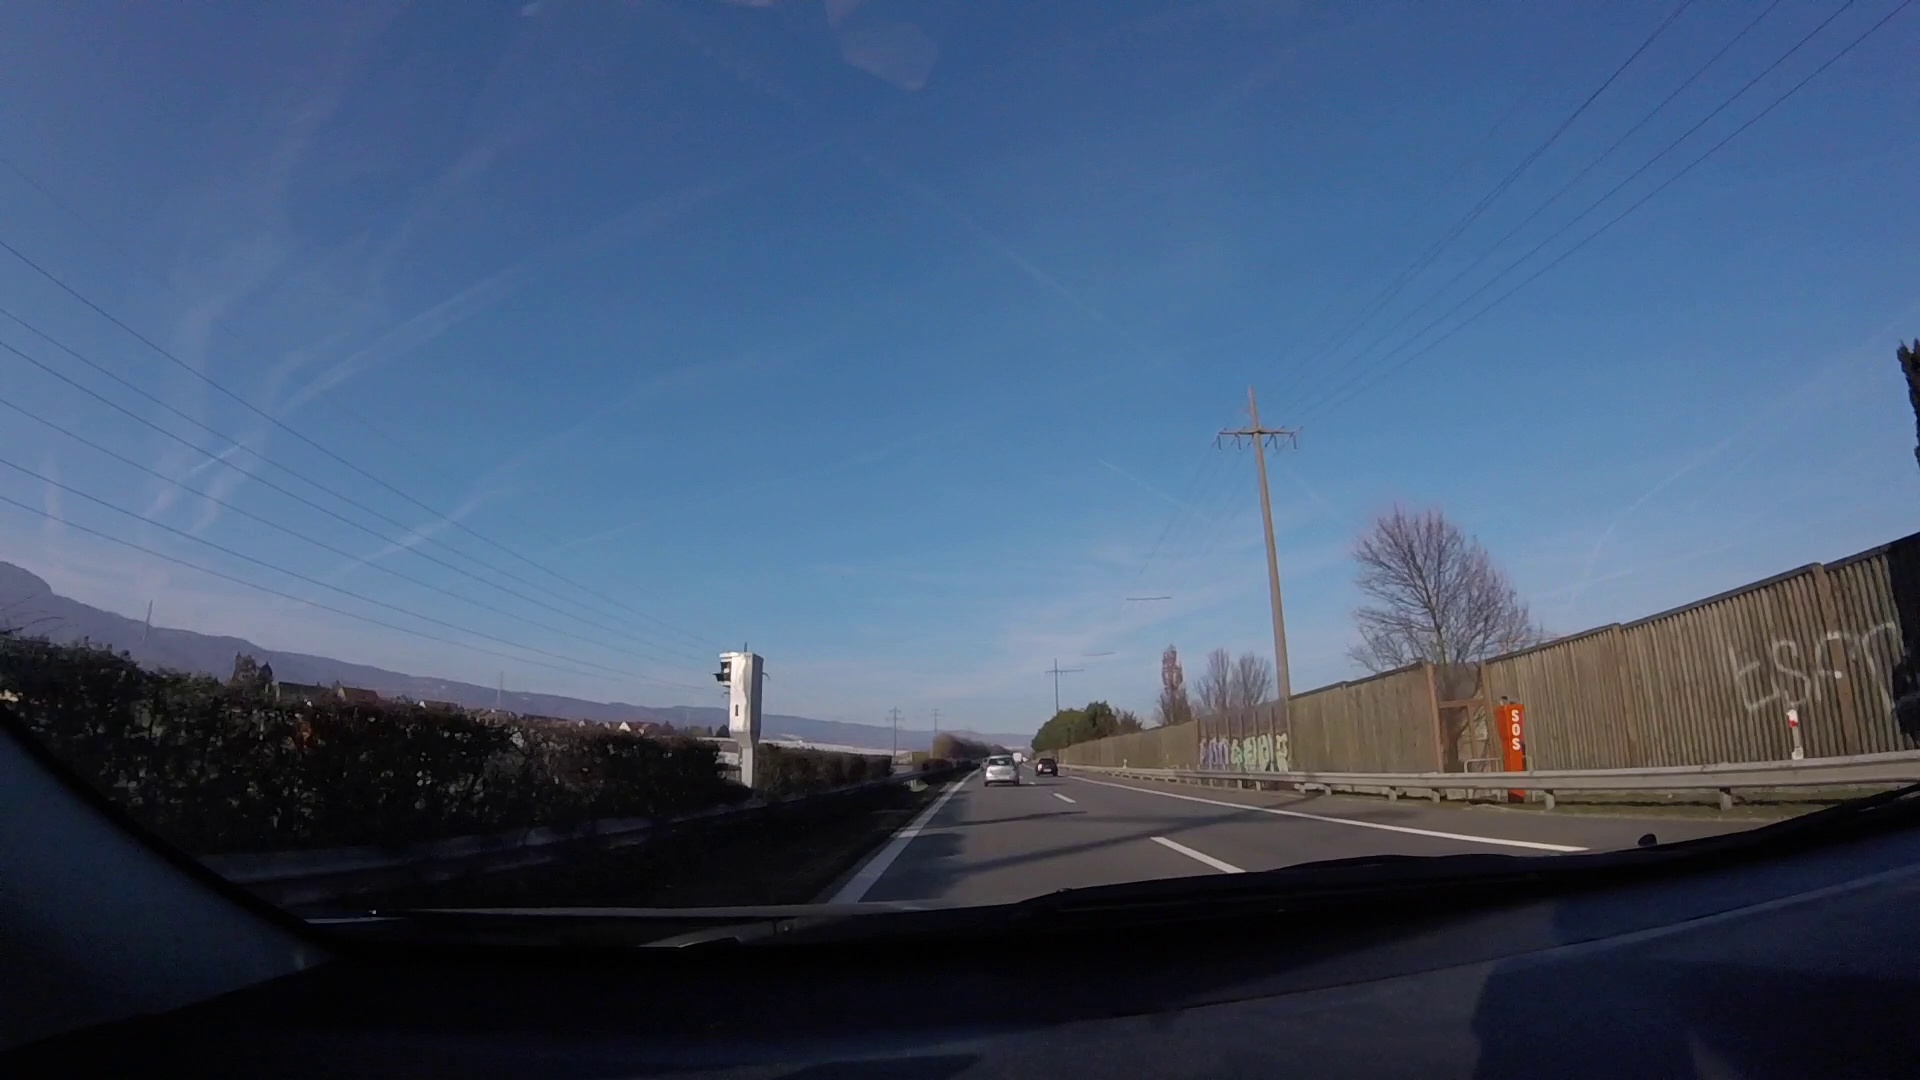radar: (712, 650, 767, 794)
